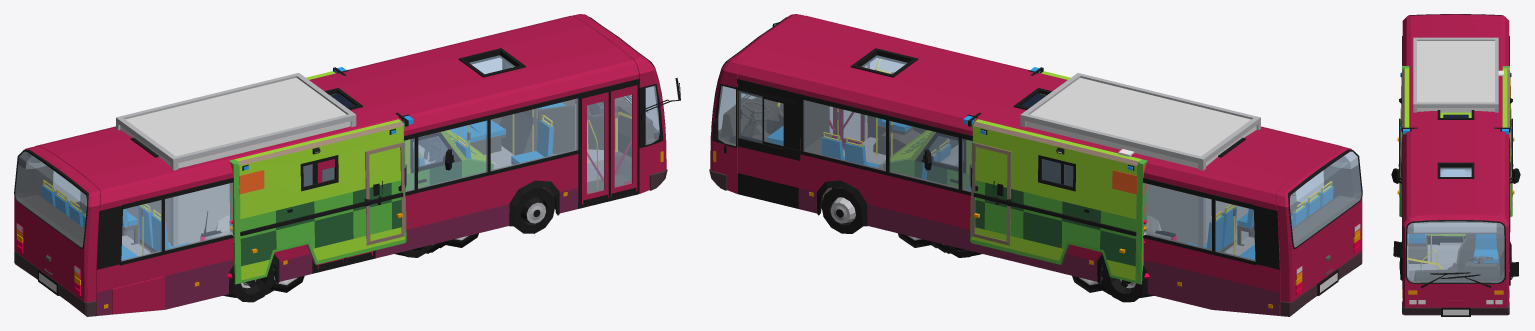
The model's file is Cars.glb.
3 views of the same model, side by side, from view 1: azimuth 30°, elevation 25°; view 2: azimuth 150°, elevation 25°; view 3: azimuth 270°, elevation 25° (orthographic). The views are drawn at different scales.
Visible parts, largest first — view 1: Bus, Ambulance, Truck, Wheel_Bus_FR, Wheel_Bus_BR; view 2: Bus, Ambulance, Truck, Wheel_Bus_FL, Wheel_Bus_BL; view 3: Bus, Truck, Ambulance.
Boxes of the visible parts, box(x1,y1,x2,y2) form: Bus: box(14, 14, 680, 316); Ambulance: box(226, 67, 498, 284); Truck: box(116, 73, 434, 252); Wheel_Bus_FR: box(514, 187, 555, 233); Wheel_Bus_BR: box(233, 263, 274, 302); Bus: box(709, 14, 1362, 316); Ambulance: box(878, 67, 1149, 284); Truck: box(941, 73, 1260, 252); Wheel_Bus_FL: box(821, 187, 862, 233); Wheel_Bus_BL: box(1102, 263, 1143, 302); Bus: box(1393, 14, 1518, 316); Truck: box(1401, 37, 1510, 176); Ambulance: box(1391, 66, 1520, 245).
Size of the model in its own units: 11.82 by 2.96 by 2.99.
